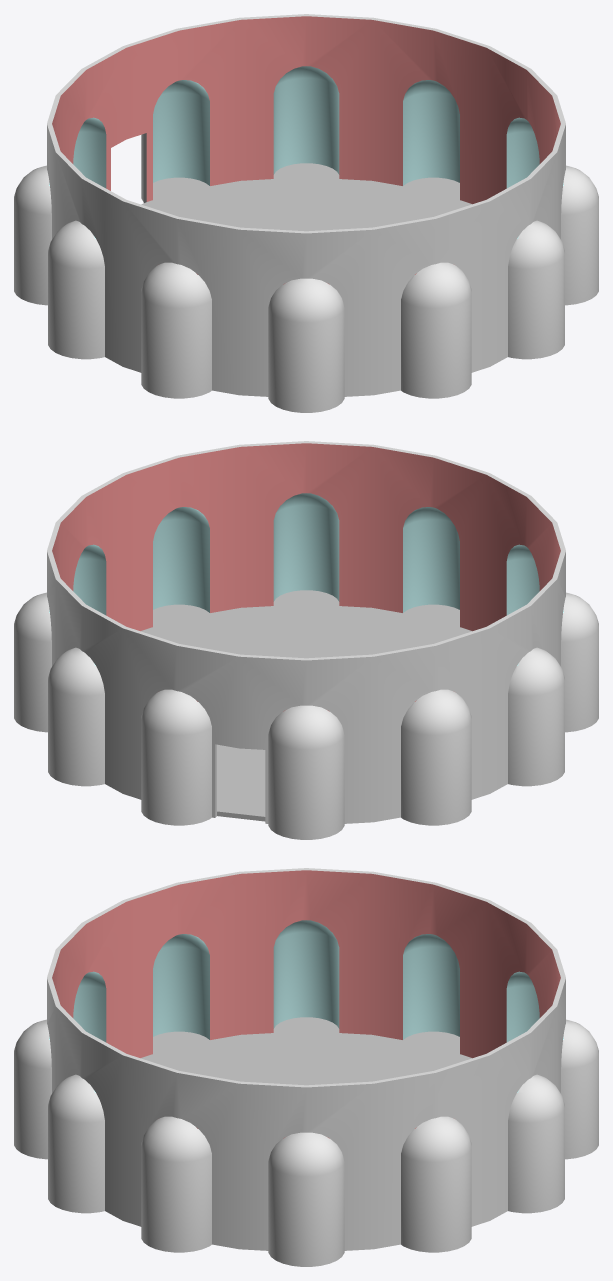
The model's file is Bh_MainRoom_Sep.fbx.
3 views of the same model, one above another, from view 1: azimuth 30°, elevation 25°; view 2: azimuth 150°, elevation 25°; view 3: azimuth 270°, elevation 25° (orthographic).
Parts seen in each view (by area): view 1: MainRoom.003, MainRoom.001, MainRoom.002, MainRoom; view 2: MainRoom.003, MainRoom.001, MainRoom.002, MainRoom; view 3: MainRoom.003, MainRoom.001, MainRoom.002, MainRoom.
Boxes of the visible parts, x1,y1,x2,y2 form: MainRoom.003: (14,14,598,412); MainRoom.001: (52,16,560,284); MainRoom.002: (49,66,563,238); MainRoom: (141,163,471,231); MainRoom.003: (14,441,598,839); MainRoom.001: (52,443,560,711); MainRoom.002: (49,493,563,665); MainRoom: (141,590,471,821); MainRoom.003: (14,868,598,1266); MainRoom.001: (52,870,560,1138); MainRoom.002: (49,920,563,1092); MainRoom: (141,1017,471,1085).
Size of the model in its own units: 11494 by 3590 by 11494.
